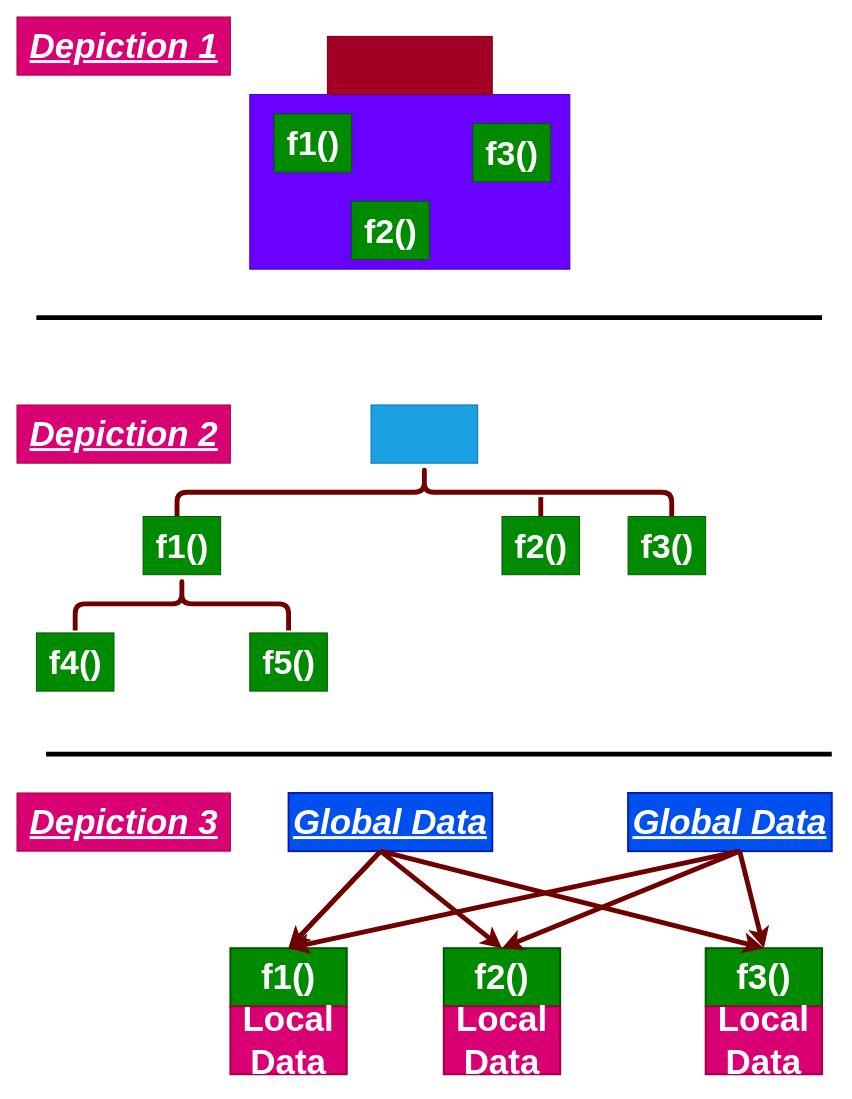
Some shapes in this 852 by 1099 pixel diagram are drawn without their labels. The centre of each missing label's shape, as x and y in pixels:
"Main" belongs at (424,433).
"Program" belongs at (409,65).
